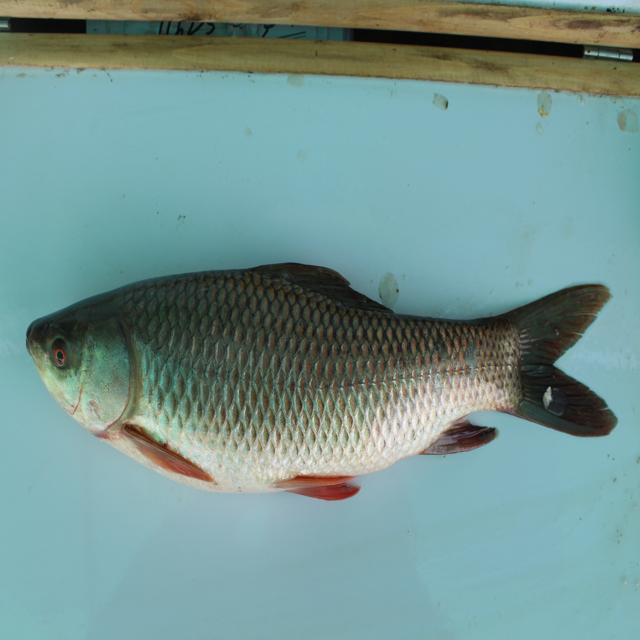Rohu: (26, 244, 616, 481)
